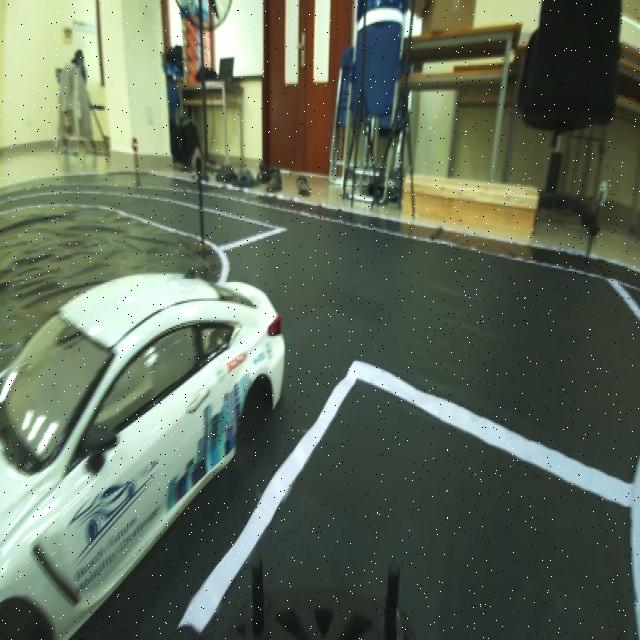car: (3, 256, 289, 603)
